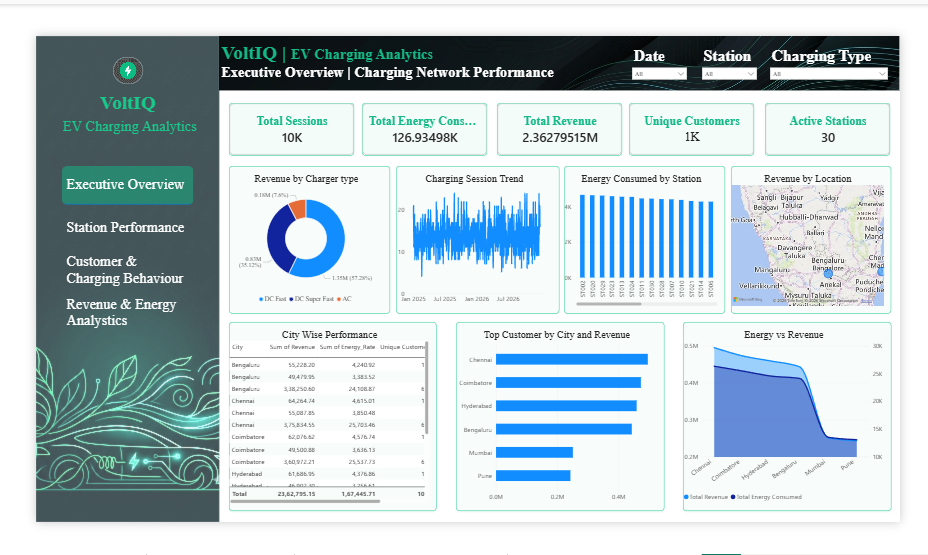

What the dashboard file says about the page in this screenshot:
{"tool":"powerbi","page":{"name":"Executive Overview","canvas":[1920,1080],"ordinal":0},"visuals":[{"type":"image","box":[407.1,0,1511.9,121.4],"z":0},{"type":"image","box":[0,0,407.5,1080],"z":1000},{"type":"image","box":[170,46.7,66.7,60],"z":2000},{"type":"textbox","box":[124,122,160,60],"z":3000},{"type":"textbox","box":[60,182,310,50],"z":4000},{"type":"pageNavigator","box":[56.7,287.8,292.2,368.9],"z":5000},{"type":"textbox","box":[407.1,2.4,757.1,119],"z":6000},{"type":"slicer","fields":{"Values":["Charging_Sessions.Station_ID"]},"box":[1476.2,23.8,131,76.2],"z":7000},{"type":"slicer","fields":{"Values":["Charging_Sessions.Charger_Type"]},"box":[1626.2,23.8,271.4,76.2],"z":8000},{"type":"slicer","fields":{"Values":["DateTable.Date","DateTable.Date.Variation.Date Hierarchy.Year","DateTable.Date.Variation.Date Hierarchy.Quarter","DateTable.Date.Variation.Date Hierarchy.Month","DateTable.Date.Variation.Date Hierarchy.Day"]},"box":[1319,23.8,131,76.2],"z":9000},{"type":"cardVisual","fields":{"Data":["Charging_Sessions.Total Sessions"]},"box":[428.3,148.3,278.3,116.7],"z":10000},{"type":"cardVisual","fields":{"Data":["Charging_Sessions.Total Energy Consumed"]},"box":[725,148.3,278.3,116.7],"z":11000},{"type":"cardVisual","fields":{"Data":["Charging_Sessions.Total Revenue"]},"box":[1023.3,148.3,278.3,116.7],"z":12000},{"type":"cardVisual","fields":{"Data":["Charging_Sessions.Unique Customers"]},"box":[1318.3,148.3,278.3,116.7],"z":13000},{"type":"cardVisual","fields":{"Data":["Charging_Sessions.Active Stations"]},"box":[1620,148.3,278.3,116.7],"z":14000},{"type":"donutChart","title":"Revenue by Charger type","fields":{"Category":["Charging_Sessions.Charger_Type"],"Y":["Sum(Charging_Sessions.Revenue)"]},"box":[427.9,288.4,358.1,327.9],"z":15000},{"type":"map","title":"Revenue by Location","fields":{"Category":["Customers.City"],"Size":["Charging_Sessions.Total Revenue"]},"box":[1544.2,288.4,355.8,327.9],"z":16000},{"type":"tableEx","title":"City Wise Performance","fields":{"Values":["Stations.City","Sum(Charging_Sessions.Revenue)","Sum(Charging_Sessions.Energy_Rate)","Charging_Sessions.Unique Customers","Customers.Customer_Type"]},"box":[428.6,635.7,461.4,420],"z":17000},{"type":"lineChart","title":"Charging Session Trend","fields":{"Category":["DateTable.Date.Variation.Date Hierarchy.Year","DateTable.Date.Variation.Date Hierarchy.Quarter","DateTable.Date.Variation.Date Hierarchy.Month","DateTable.Date.Variation.Date Hierarchy.Day"],"Y":["CountNonNull(Charging_Sessions.Session_ID)"]},"box":[800,288.4,362.8,327.9],"z":18000},{"type":"columnChart","title":"Energy Consumed by Station","fields":{"Category":["Charging_Sessions.Station_ID"],"Y":["Charging_Sessions.Total Energy Consumed"]},"box":[1174.4,288.4,358.1,327.9],"z":19000},{"type":"clusteredBarChart","title":"Top Customer by City and Revenue","fields":{"Category":["Stations.City"],"Y":["Charging_Sessions.Total Revenue"]},"box":[932.5,635,462.5,420],"z":20000},{"type":"areaChart","title":"Energy vs Revenue ","fields":{"Category":["Stations.City"],"Y":["Charging_Sessions.Total Revenue"],"Y2":["Charging_Sessions.Total Energy Consumed"]},"box":[1437.5,635,462.5,420],"z":21000}]}

Visuals, with their boxes on the page's 1920x1080 design canvas (x1, y1, x2, y2). These are canvas units, not pixel positions in the 928x555 screenshot, which may show the page scaled, cropped or inside an application window:
image: Rect(407, 0, 1919, 121)
image: Rect(0, 0, 408, 1080)
image: Rect(170, 47, 237, 107)
textbox: Rect(124, 122, 284, 182)
textbox: Rect(60, 182, 370, 232)
pageNavigator: Rect(57, 288, 349, 657)
textbox: Rect(407, 2, 1164, 121)
slicer - Charging_Sessions.Station_ID: Rect(1476, 24, 1607, 100)
slicer - Charging_Sessions.Charger_Type: Rect(1626, 24, 1898, 100)
slicer - DateTable.Date x DateTable.Date.Variation.Date Hierarchy.Year: Rect(1319, 24, 1450, 100)
cardVisual - Charging_Sessions.Total Sessions: Rect(428, 148, 707, 265)
cardVisual - Charging_Sessions.Total Energy Consumed: Rect(725, 148, 1003, 265)
cardVisual - Charging_Sessions.Total Revenue: Rect(1023, 148, 1302, 265)
cardVisual - Charging_Sessions.Unique Customers: Rect(1318, 148, 1597, 265)
cardVisual - Charging_Sessions.Active Stations: Rect(1620, 148, 1898, 265)
"Revenue by Charger type" donutChart: Rect(428, 288, 786, 616)
"Revenue by Location" map: Rect(1544, 288, 1900, 616)
"City Wise Performance" tableEx: Rect(429, 636, 890, 1056)
"Charging Session Trend" lineChart: Rect(800, 288, 1163, 616)
"Energy Consumed by Station" columnChart: Rect(1174, 288, 1532, 616)
"Top Customer by City and Revenue" clusteredBarChart: Rect(932, 635, 1395, 1055)
"Energy vs Revenue " areaChart: Rect(1438, 635, 1900, 1055)
